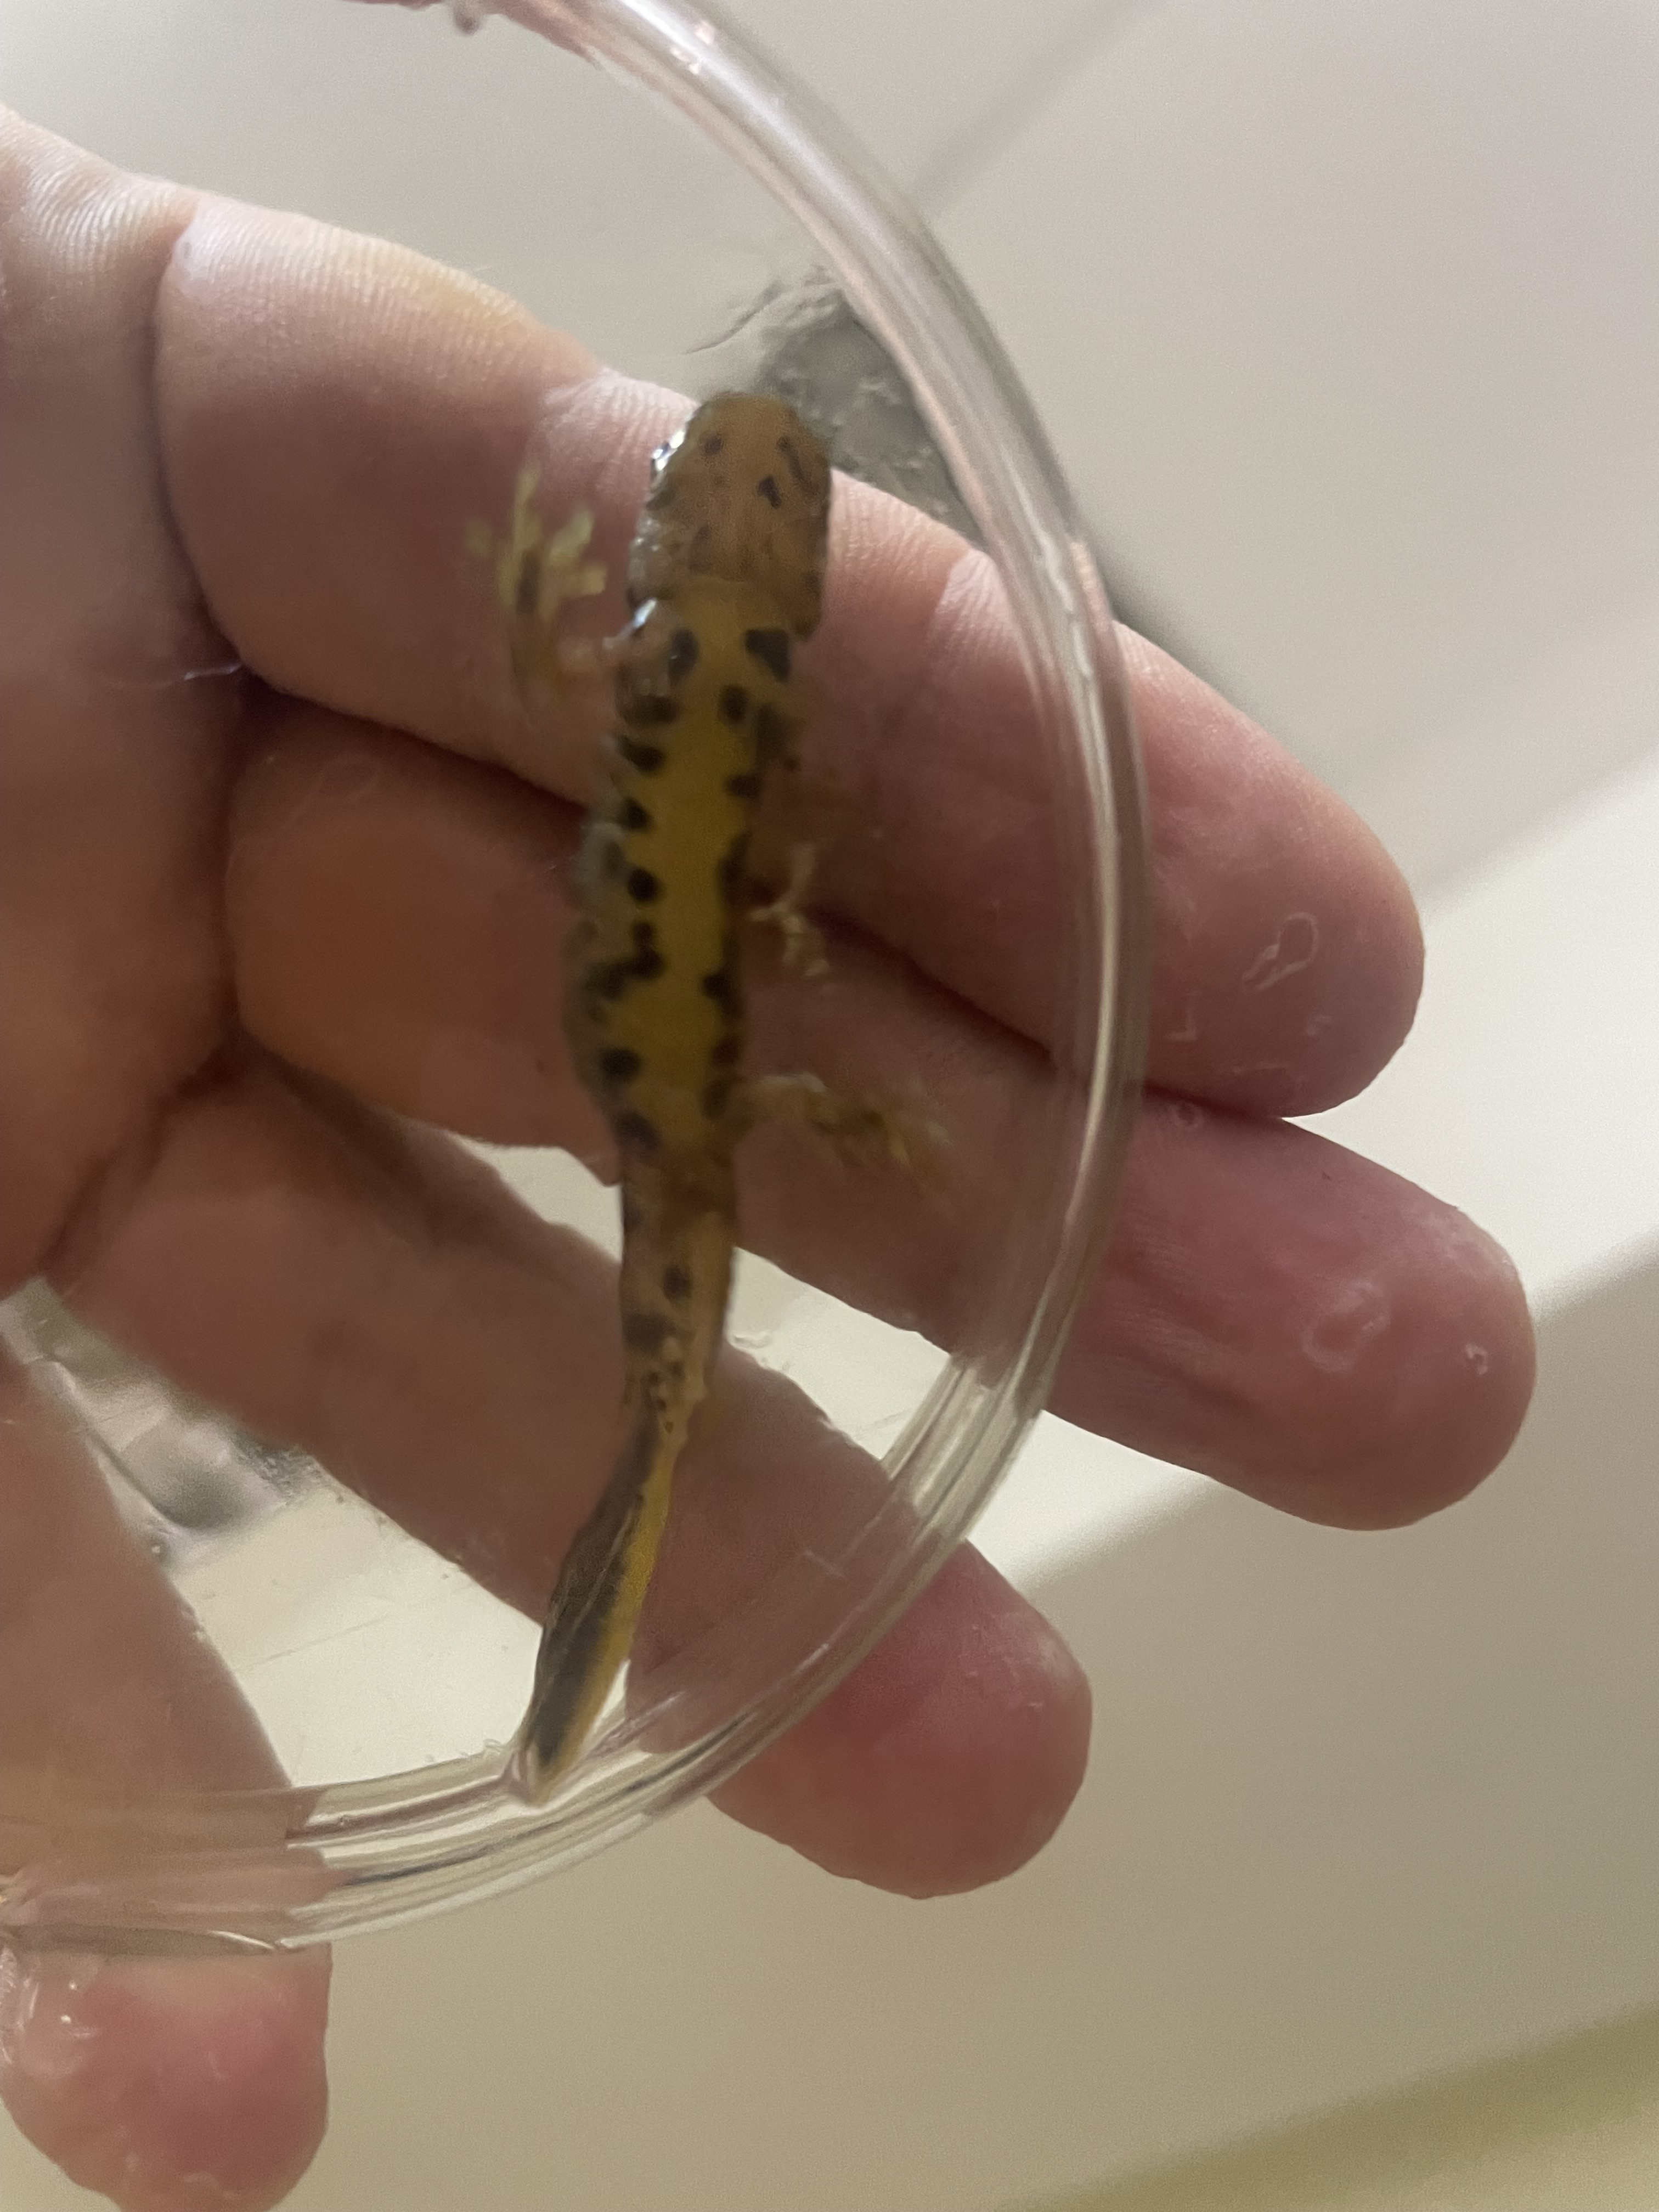Karelin_newt: (561, 683, 770, 1125)
